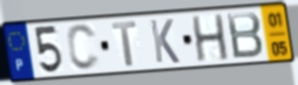5: (33, 24, 65, 76)
B: (224, 10, 265, 61)
C: (65, 22, 102, 73)
H: (190, 13, 232, 64)
K: (148, 18, 182, 65)
T: (110, 19, 139, 68)
